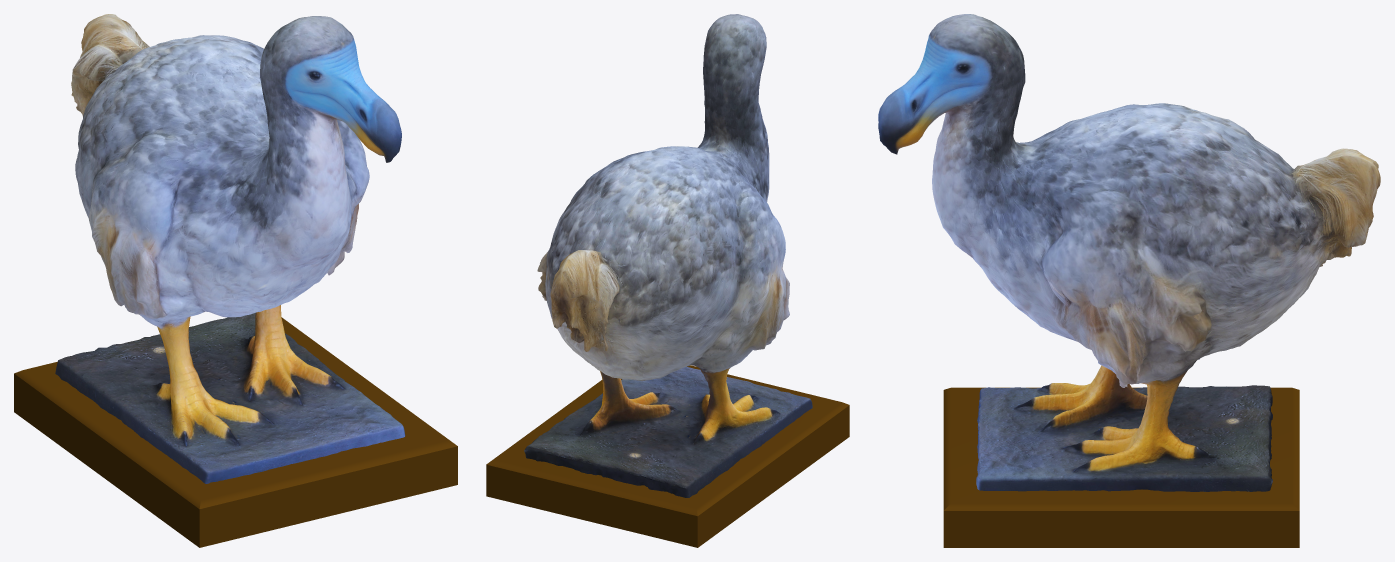
Rendered from Chim Dodo.glb.
The picture shows the model from 3 angles, left to right: view 1: azimuth 30°, elevation 25°; view 2: azimuth 150°, elevation 25°; view 3: azimuth 270°, elevation 25°; orthographic projection. The views are drawn at different scales.
Visible parts, largest first — view 1: Object_4, Object_2; view 2: Object_4, Object_2; view 3: Object_4, Object_2.
Part boxes in pixels (x1,y1,x2,y2): Object_4: [55, 14, 405, 483]; Object_2: [14, 317, 457, 547]; Object_4: [524, 14, 812, 497]; Object_2: [486, 365, 849, 547]; Object_4: [878, 14, 1380, 491]; Object_2: [943, 387, 1299, 547].
Size of the model in its own units: 0.5872 by 1.05 by 1.02.
Materials: 3 (2 with a texture image).
